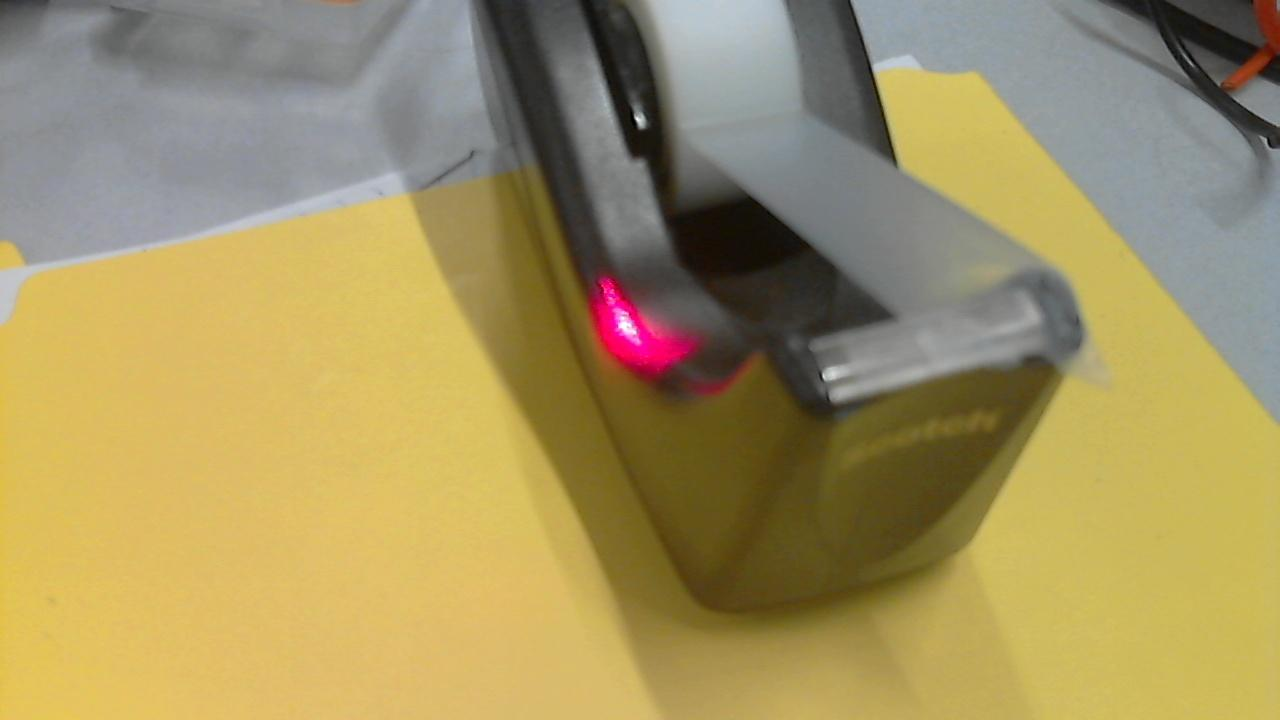Object desktop tape dispenser - Material plastic - Pdfname 8pMd29OsIRjD: (576, 263, 705, 384)
